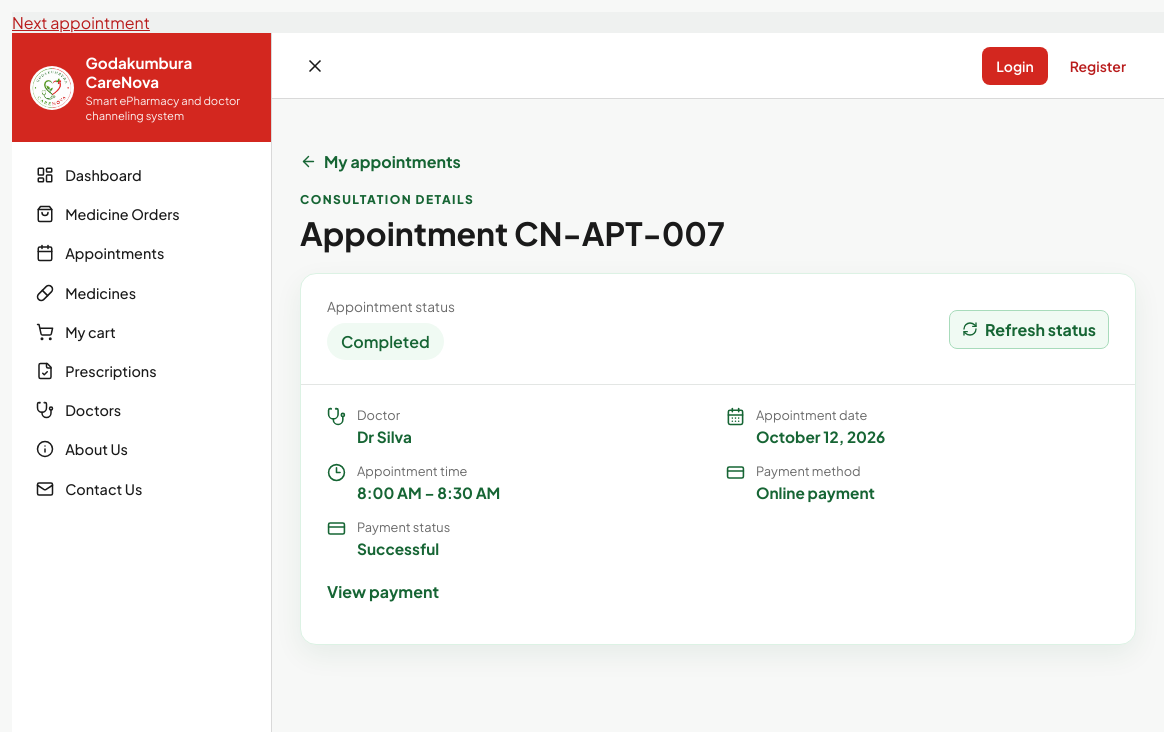
Test case: does not offer payment on a closed appointment and refreshes payment status
expect the text "Completed" is shown: met, box [327,323,444,360]
expect the text "Successful" is shown: met, box [357,539,439,558]
What coordinates should you click on to do the following:
click the button "Refresh status"
I would click on:
 (1029, 329)
Its box is [949,310,1109,349].
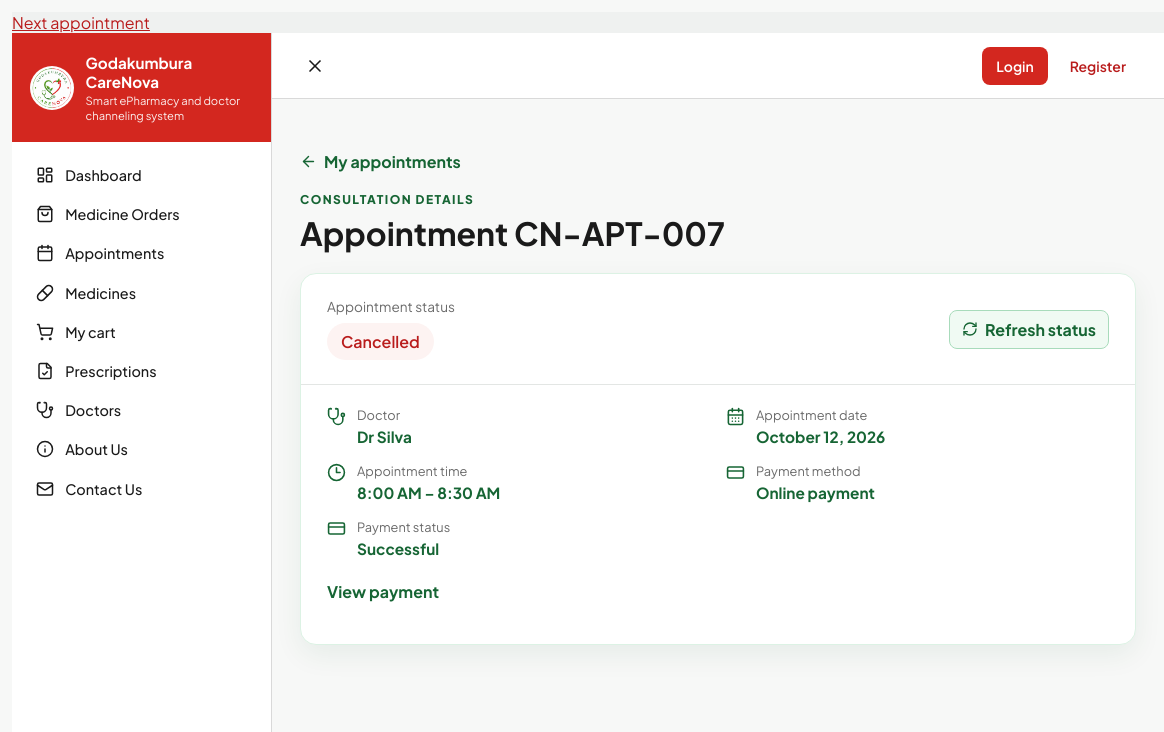
expect the text "Cancelled" is shown: met, box [327,323,434,360]
